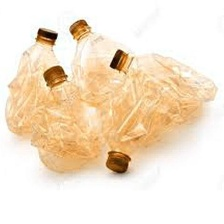bottle: (100, 89, 201, 180), (28, 63, 99, 175), (107, 42, 217, 107), (61, 10, 134, 107), (4, 24, 62, 136)
